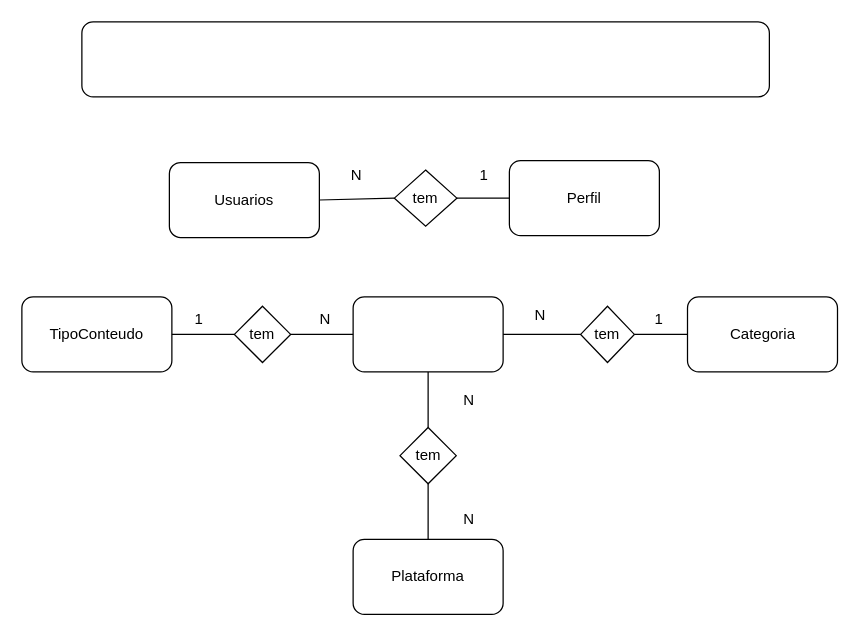
The diagram is 860 pixels wide and 636 high, and some of its shapes have lost their labels. The centre of each missing label's shape, as x and y in pixels:
Lancamento: the point at 427,334
Modelagem_Conceitual: the point at 425,59
